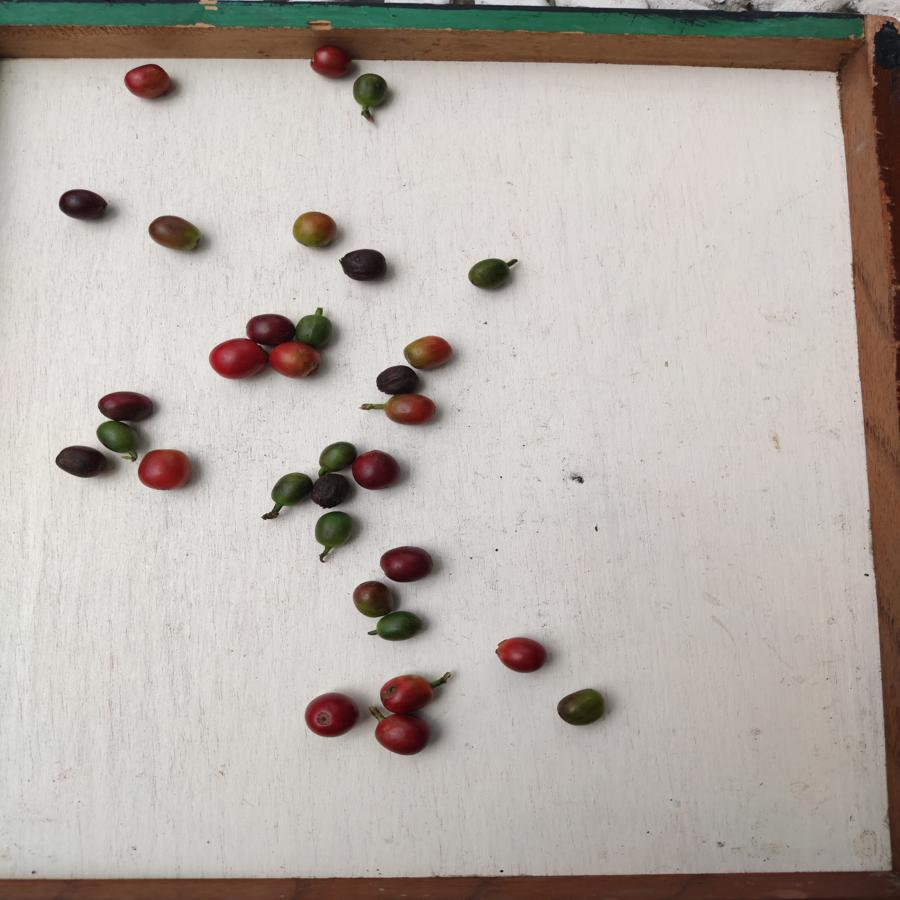Inmaduro: (467, 255, 514, 293), (313, 510, 356, 550), (268, 470, 311, 508), (374, 613, 424, 642), (353, 70, 390, 108), (98, 421, 141, 452), (296, 313, 334, 348), (315, 439, 354, 473)
Maduro: (371, 710, 430, 762), (301, 690, 362, 740), (135, 450, 195, 495), (208, 338, 266, 383), (376, 673, 433, 714), (268, 342, 320, 381), (124, 62, 174, 101), (496, 638, 549, 674), (306, 45, 352, 81)
Pinton: (148, 208, 202, 254), (557, 683, 604, 728), (288, 211, 341, 249), (382, 393, 440, 425), (406, 330, 454, 368), (350, 580, 395, 617)
Sobremaduro: (57, 182, 112, 224), (377, 546, 436, 583), (50, 444, 108, 480), (354, 448, 400, 492), (338, 249, 393, 285), (97, 390, 157, 420), (308, 472, 353, 507), (245, 311, 293, 342), (376, 364, 418, 397)
